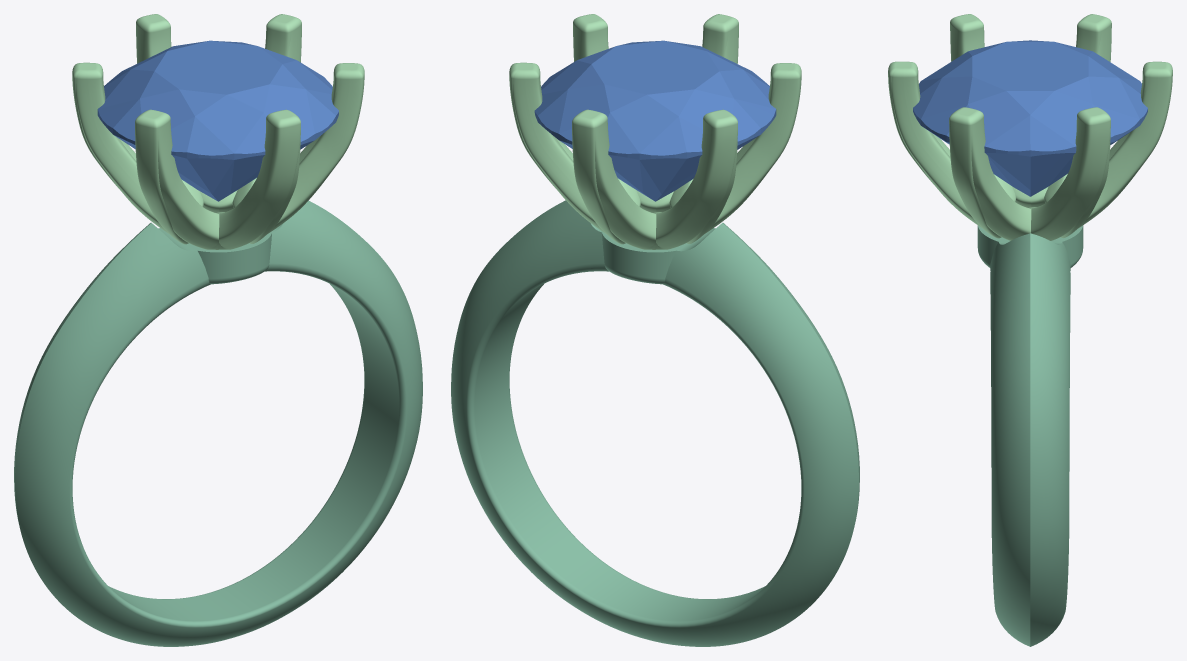
3 renders of one model, left to right at view 1: azimuth 30°, elevation 25°; view 2: azimuth 150°, elevation 25°; view 3: azimuth 270°, elevation 25°, orthographic. The views are drawn at different scales.
Parts seen in each view (by area): view 1: Export_15_Blank.3dm, Gem; view 2: Export_15_Blank.3dm, Gem; view 3: Export_15_Blank.3dm, Gem.
Boxes of the visible parts, box(x1,y1,x2,y2) form: Export_15_Blank.3dm: box(14, 14, 422, 646); Gem: box(97, 40, 338, 201); Export_15_Blank.3dm: box(451, 14, 859, 646); Gem: box(534, 40, 776, 201); Export_15_Blank.3dm: box(888, 14, 1172, 646); Gem: box(913, 40, 1147, 196).
Size of the model in its own units: 2.23 by 3.01 by 1.39.
